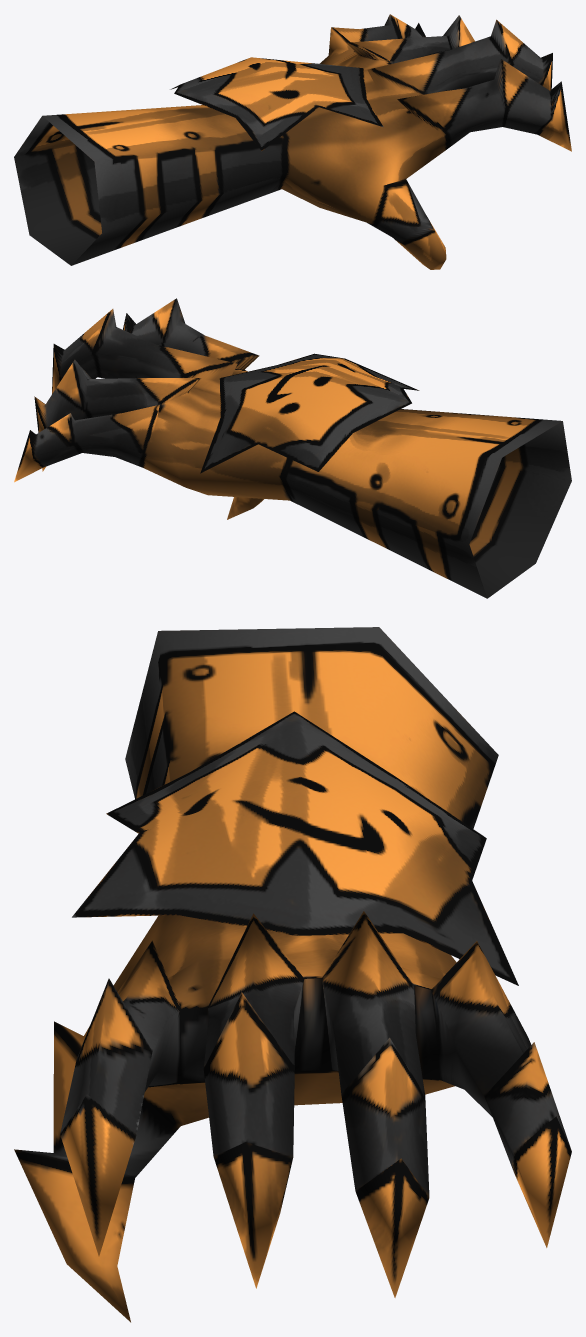
The model's file is WP_0H_Claw06.FBX.
3 views of the same model, one above another, from view 1: azimuth 30°, elevation 25°; view 2: azimuth 150°, elevation 25°; view 3: azimuth 270°, elevation 25° (orthographic). The views are drawn at different scales.
Visible parts, largest first — view 1: WP_0H_Claw06; view 2: WP_0H_Claw06; view 3: WP_0H_Claw06.
Part boxes in pixels (x1,y1,x2,y2): WP_0H_Claw06: (14,14,571,269); WP_0H_Claw06: (14,298,571,598); WP_0H_Claw06: (14,627,571,1322).
Bounding box in the file's own units: 58.79 × 24.4 × 29.93.
